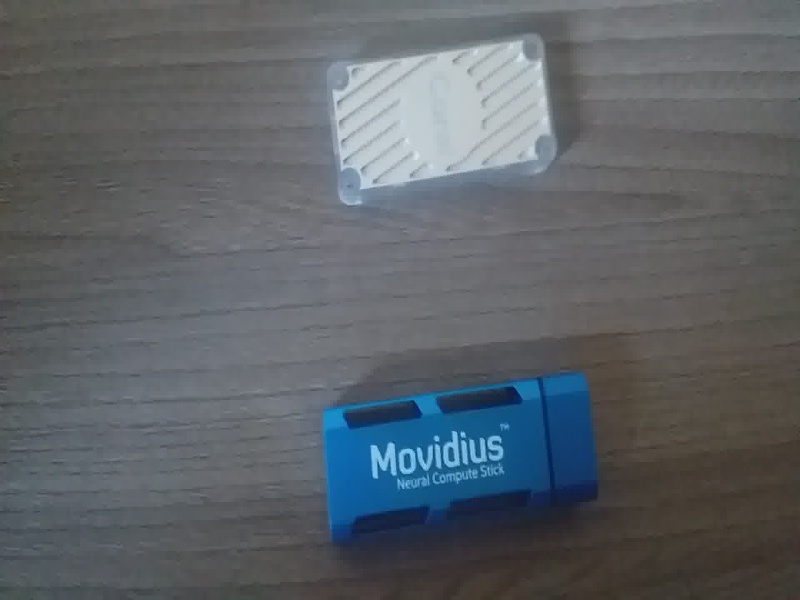coral: (311, 33, 567, 208)
movidius: (314, 368, 616, 534)
